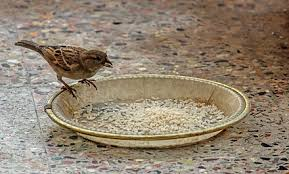hsparrow: (13, 36, 112, 95)
